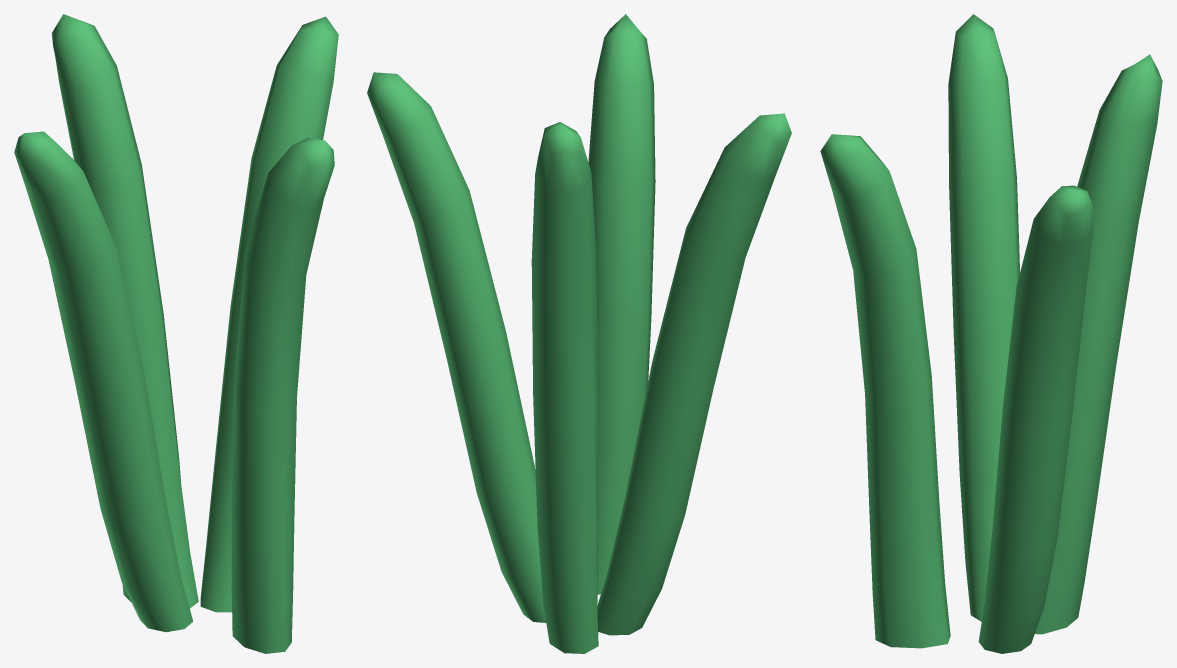
File: Grass_B_03.fbx
3 renders of one model, left to right at view 1: azimuth 30°, elevation 25°; view 2: azimuth 150°, elevation 25°; view 3: azimuth 270°, elevation 25°, orthographic. The views are drawn at different scales.
Visible parts, largest first — view 1: Grass_B_03_LOD0; view 2: Grass_B_03_LOD0; view 3: Grass_B_03_LOD0.
Part boxes in pixels (x1,y1,x2,y2): Grass_B_03_LOD0: (14,14,338,653); Grass_B_03_LOD0: (367,14,791,653); Grass_B_03_LOD0: (820,14,1162,653).
Size of what is drawn, in the model's own units: 371 by 539 by 306.
